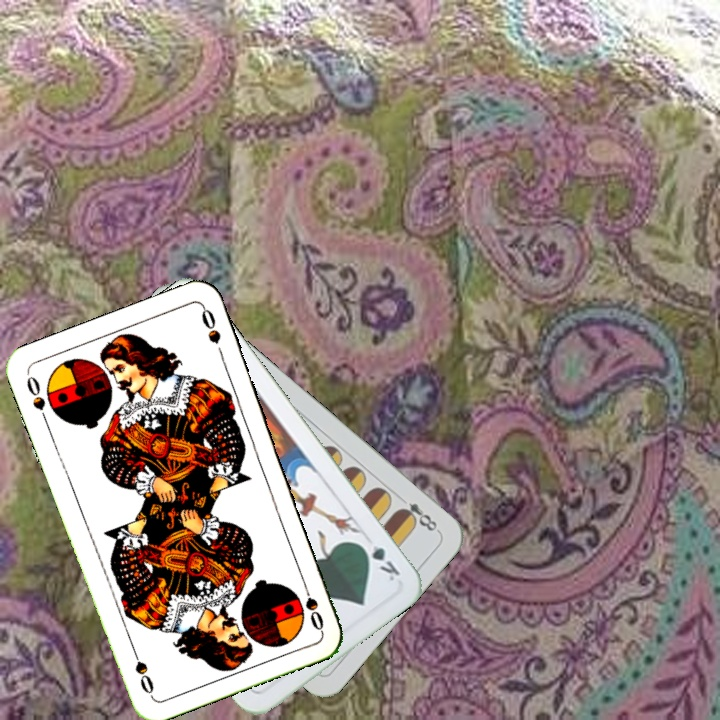E8: (394, 498, 442, 535)
GK: (355, 537, 403, 584)
SO: (298, 576, 327, 633), (22, 370, 51, 427)
